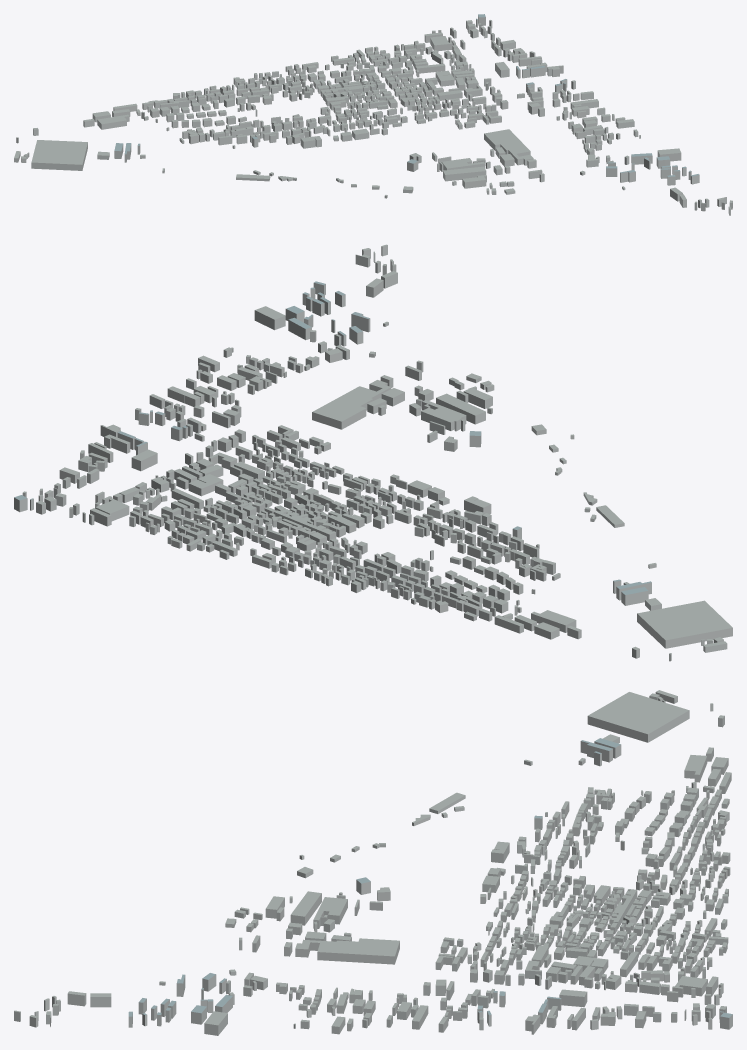
The model's file is far.glb.
The picture shows the model from 3 angles, top to bottom: view 1: azimuth 30°, elevation 25°; view 2: azimuth 150°, elevation 25°; view 3: azimuth 270°, elevation 25°; orthographic projection. The views are drawn at different scales.
Bounding box in the file's own units: 1208 × 22.2 × 1079.
